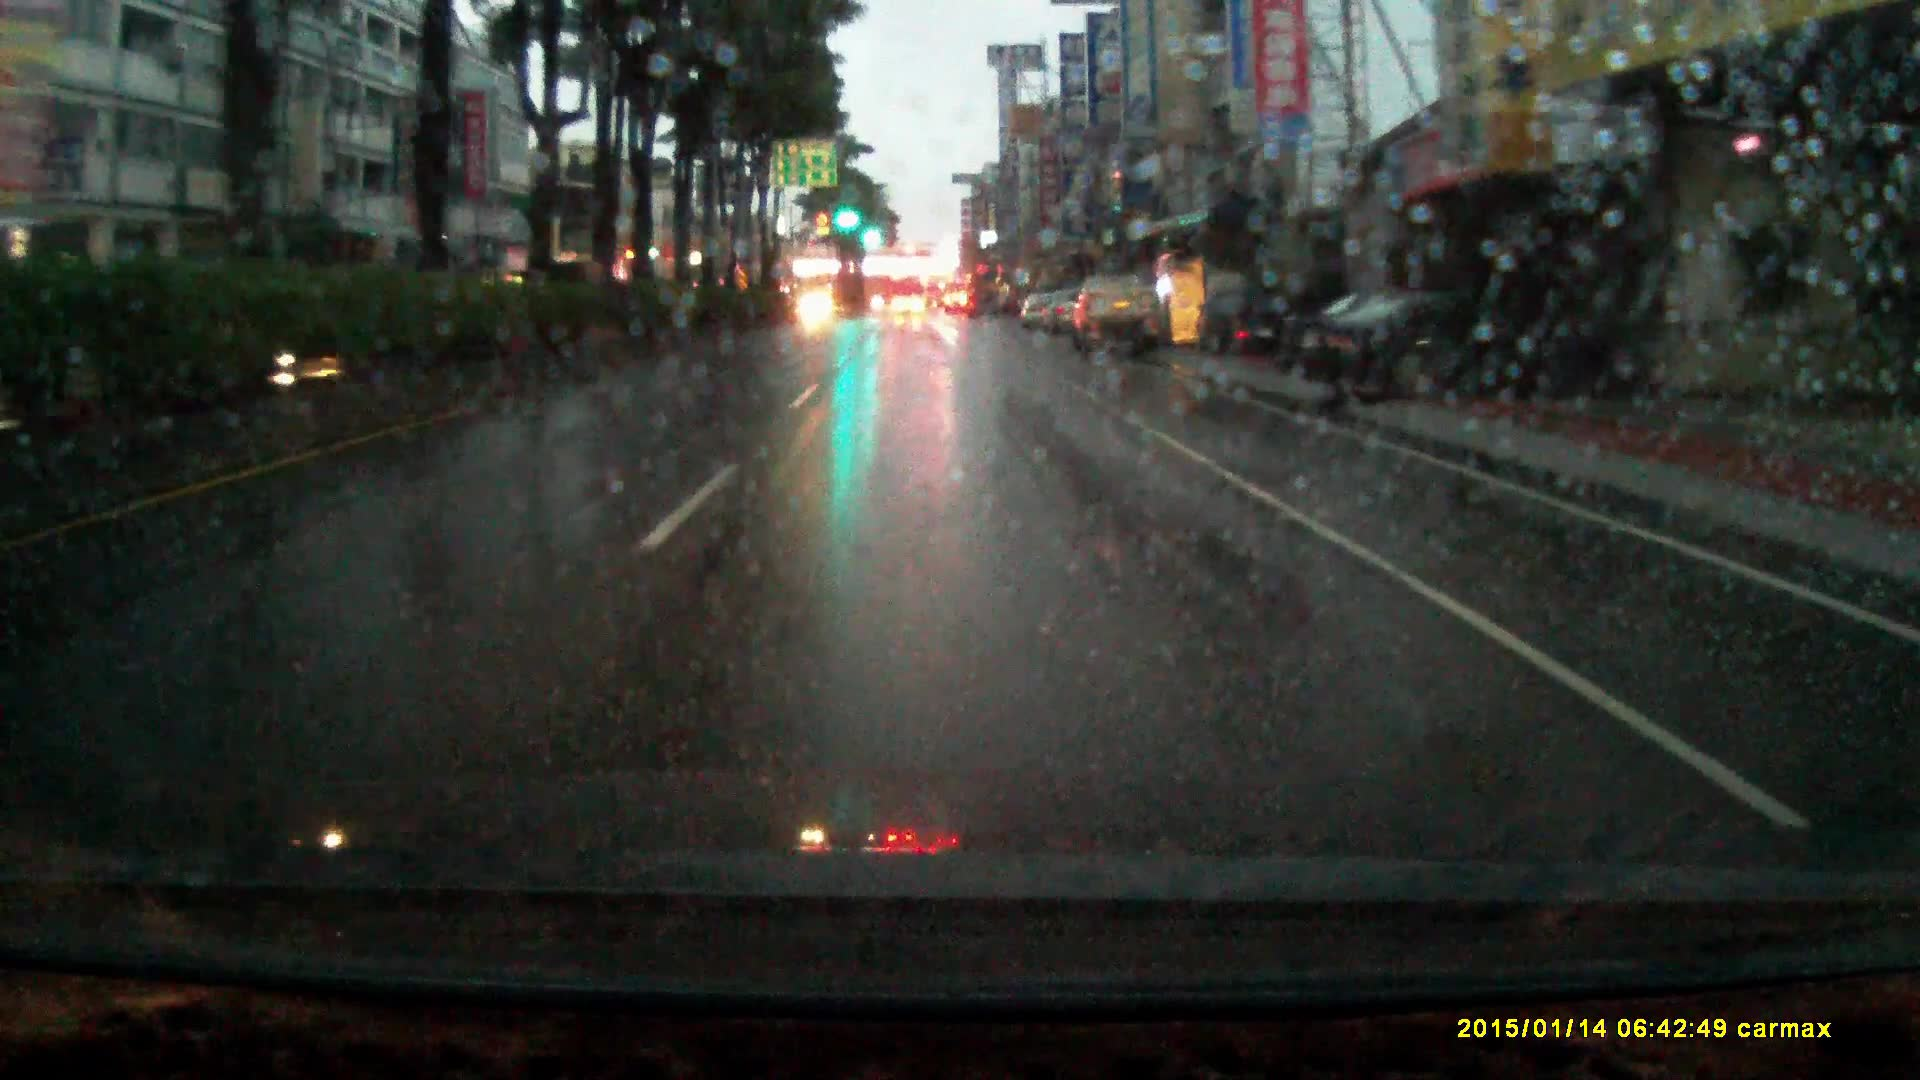vehicle: (1271, 298, 1640, 404), (1073, 278, 1160, 360), (1193, 294, 1292, 365), (796, 293, 837, 335), (891, 295, 927, 320), (924, 280, 945, 314)
